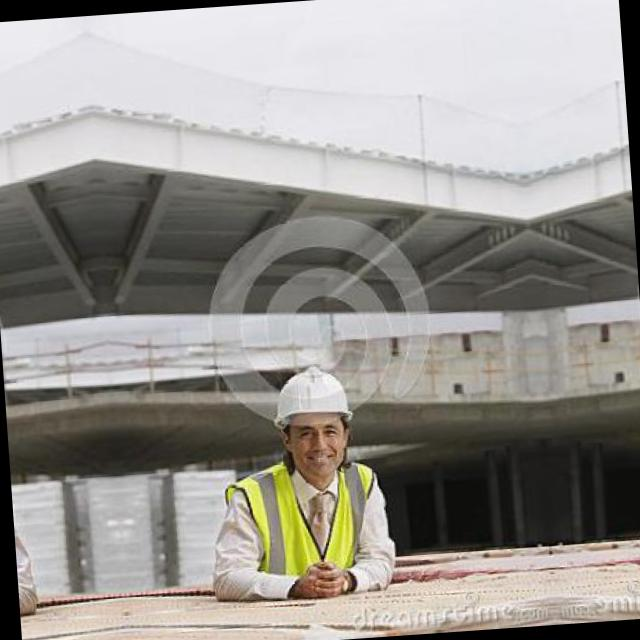helmet: (262, 358, 366, 483)
